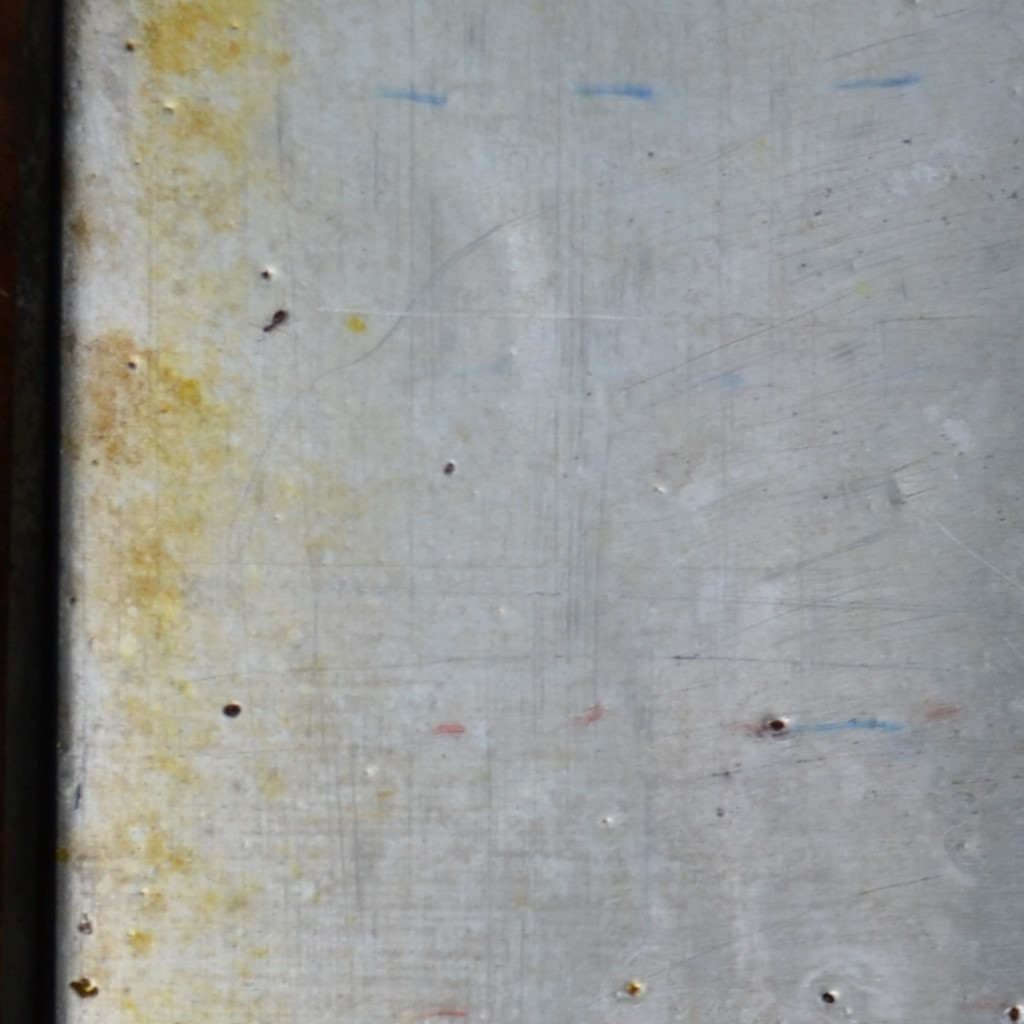varroa: (220, 700, 243, 719), (767, 715, 786, 735), (1006, 1001, 1021, 1022), (819, 989, 836, 1007)
